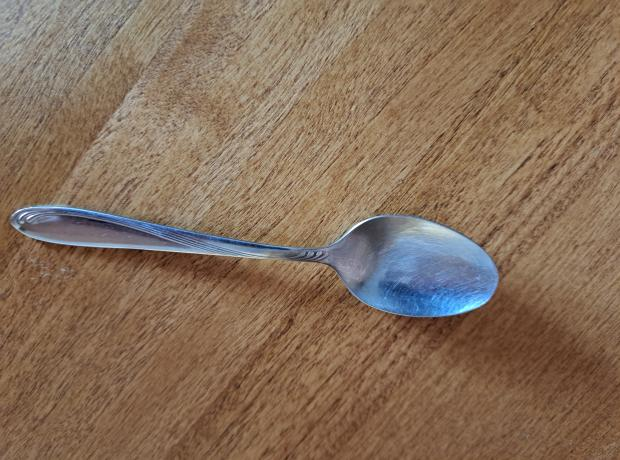metal: (8, 204, 498, 318)
